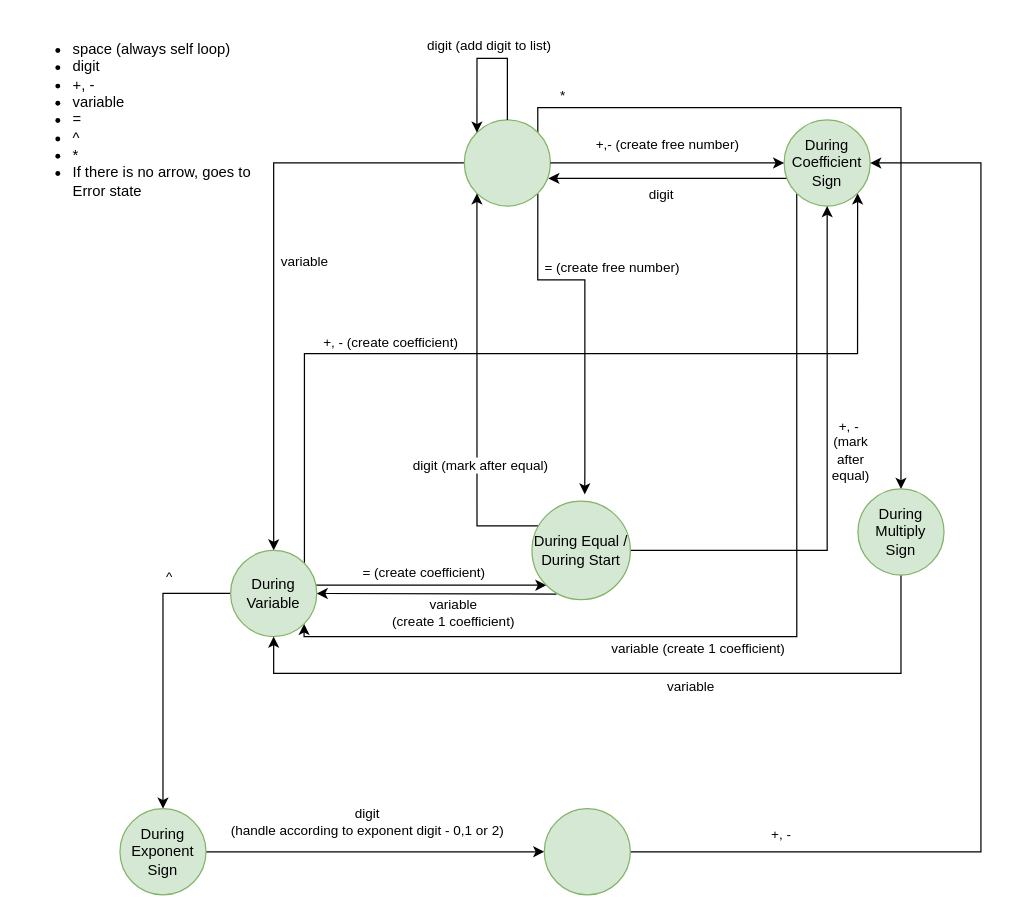
Image size: 1012x916. Some labels were removed from this diagram. Here are the shapes that lost their labels. From the top down, the box of each, then its label:
(463, 119, 550, 206): During Number
(543, 807, 630, 895): During Exponent Digit
